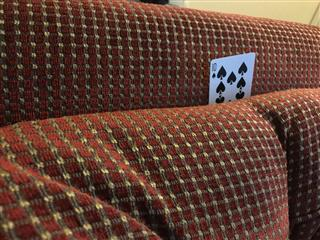TenOfSpades: (207, 51, 255, 104)
